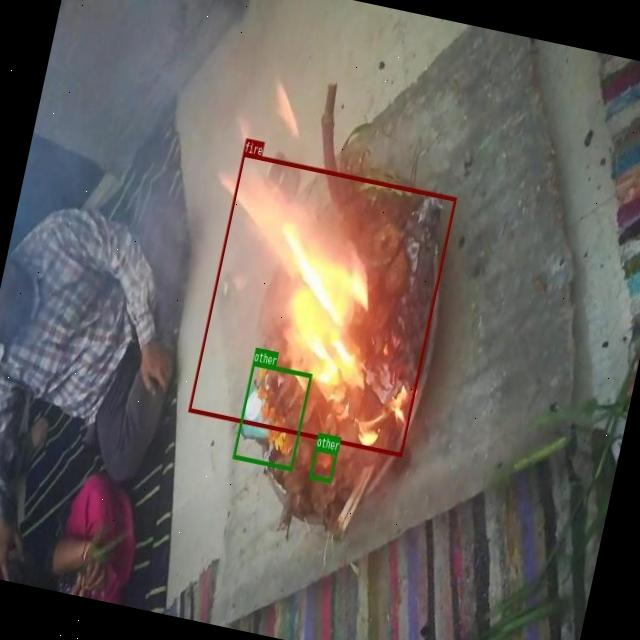fire: (188, 152, 456, 456)
